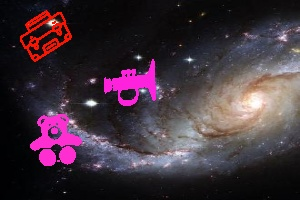喇叭: (103, 60, 158, 105)
小熊: (31, 114, 81, 165)
工具箱: (19, 10, 71, 60)
